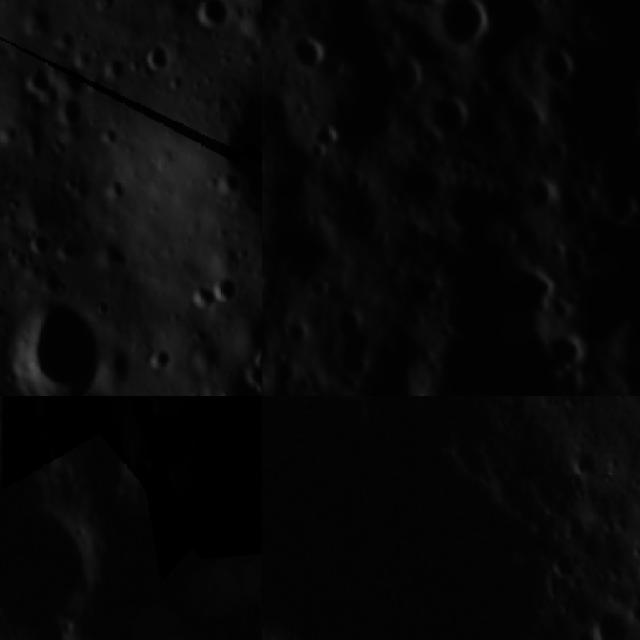crater: (262, 396, 569, 640), (97, 523, 262, 640), (0, 509, 100, 640), (35, 396, 138, 511), (190, 85, 262, 248), (9, 297, 114, 396), (343, 321, 456, 396), (532, 317, 605, 385), (427, 0, 507, 61), (418, 88, 488, 154), (527, 31, 590, 98), (278, 27, 338, 82), (377, 48, 434, 104), (391, 265, 446, 323), (575, 595, 640, 640), (302, 117, 355, 171), (14, 56, 59, 101), (205, 263, 248, 308), (172, 273, 220, 313), (562, 442, 603, 488), (125, 396, 170, 435), (616, 115, 640, 186), (185, 0, 231, 37), (134, 37, 175, 77), (45, 92, 88, 128), (374, 0, 460, 18), (20, 0, 55, 34)
